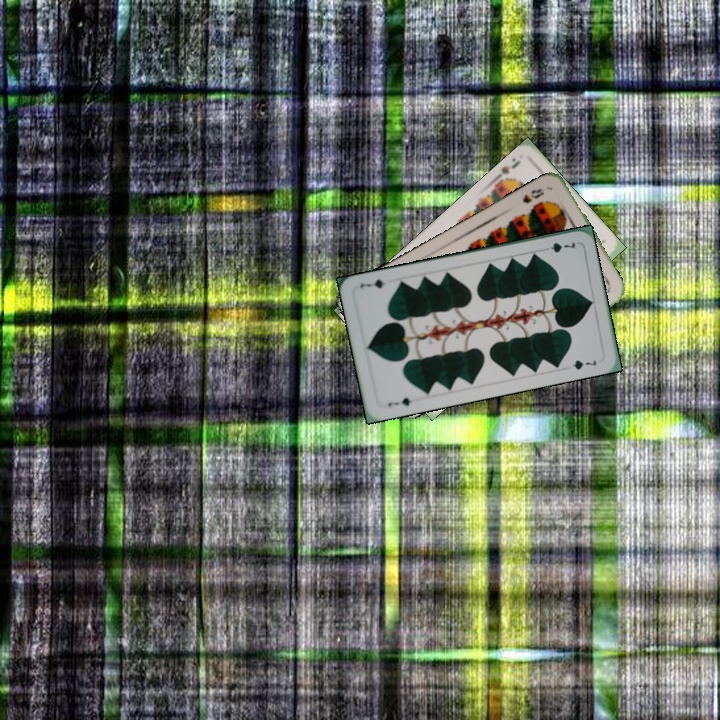G7: (538, 238, 578, 255), (384, 393, 414, 409)
S8: (518, 184, 547, 206)
S9: (490, 154, 523, 187)
